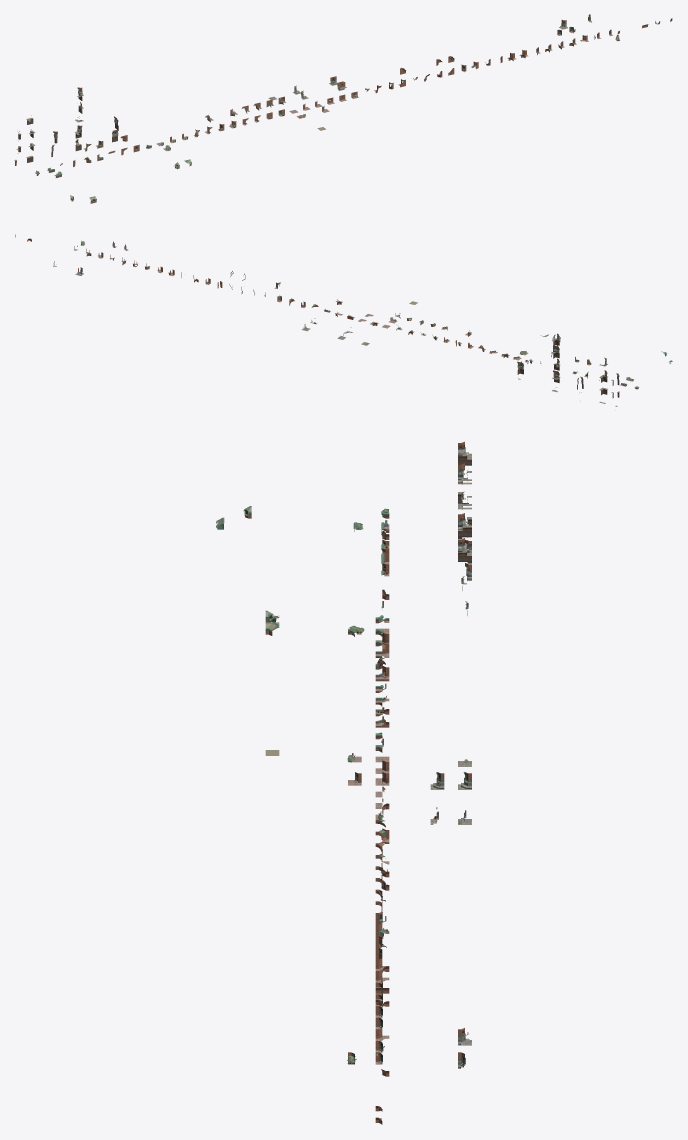
Rendered from BrickBlock91.glb.
3 views of the same model, one above another, from view 1: azimuth 30°, elevation 25°; view 2: azimuth 150°, elevation 25°; view 3: azimuth 270°, elevation 25° (orthographic). The views are drawn at different scales.
Bounding box in the file's own units: 105 × 9.92 × 18.59.
1 material, 1 textured.
